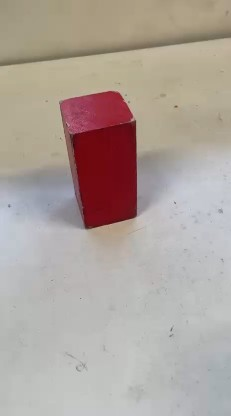red: (55, 87, 139, 221)
